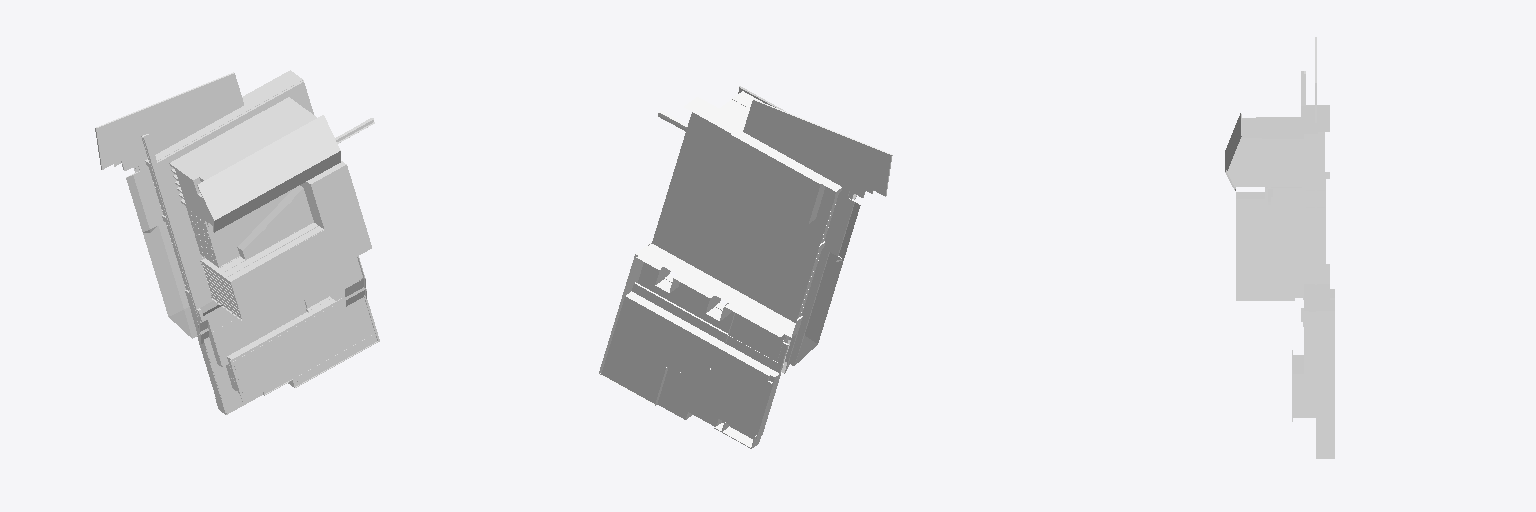
Rendered from newMPMassing.obj.
The picture shows the model from 3 angles: view 1: azimuth 30°, elevation 25°; view 2: azimuth 150°, elevation 25°; view 3: azimuth 270°, elevation 25°; orthographic projection.
Size of the model in its own units: 392 by 450 by 130.